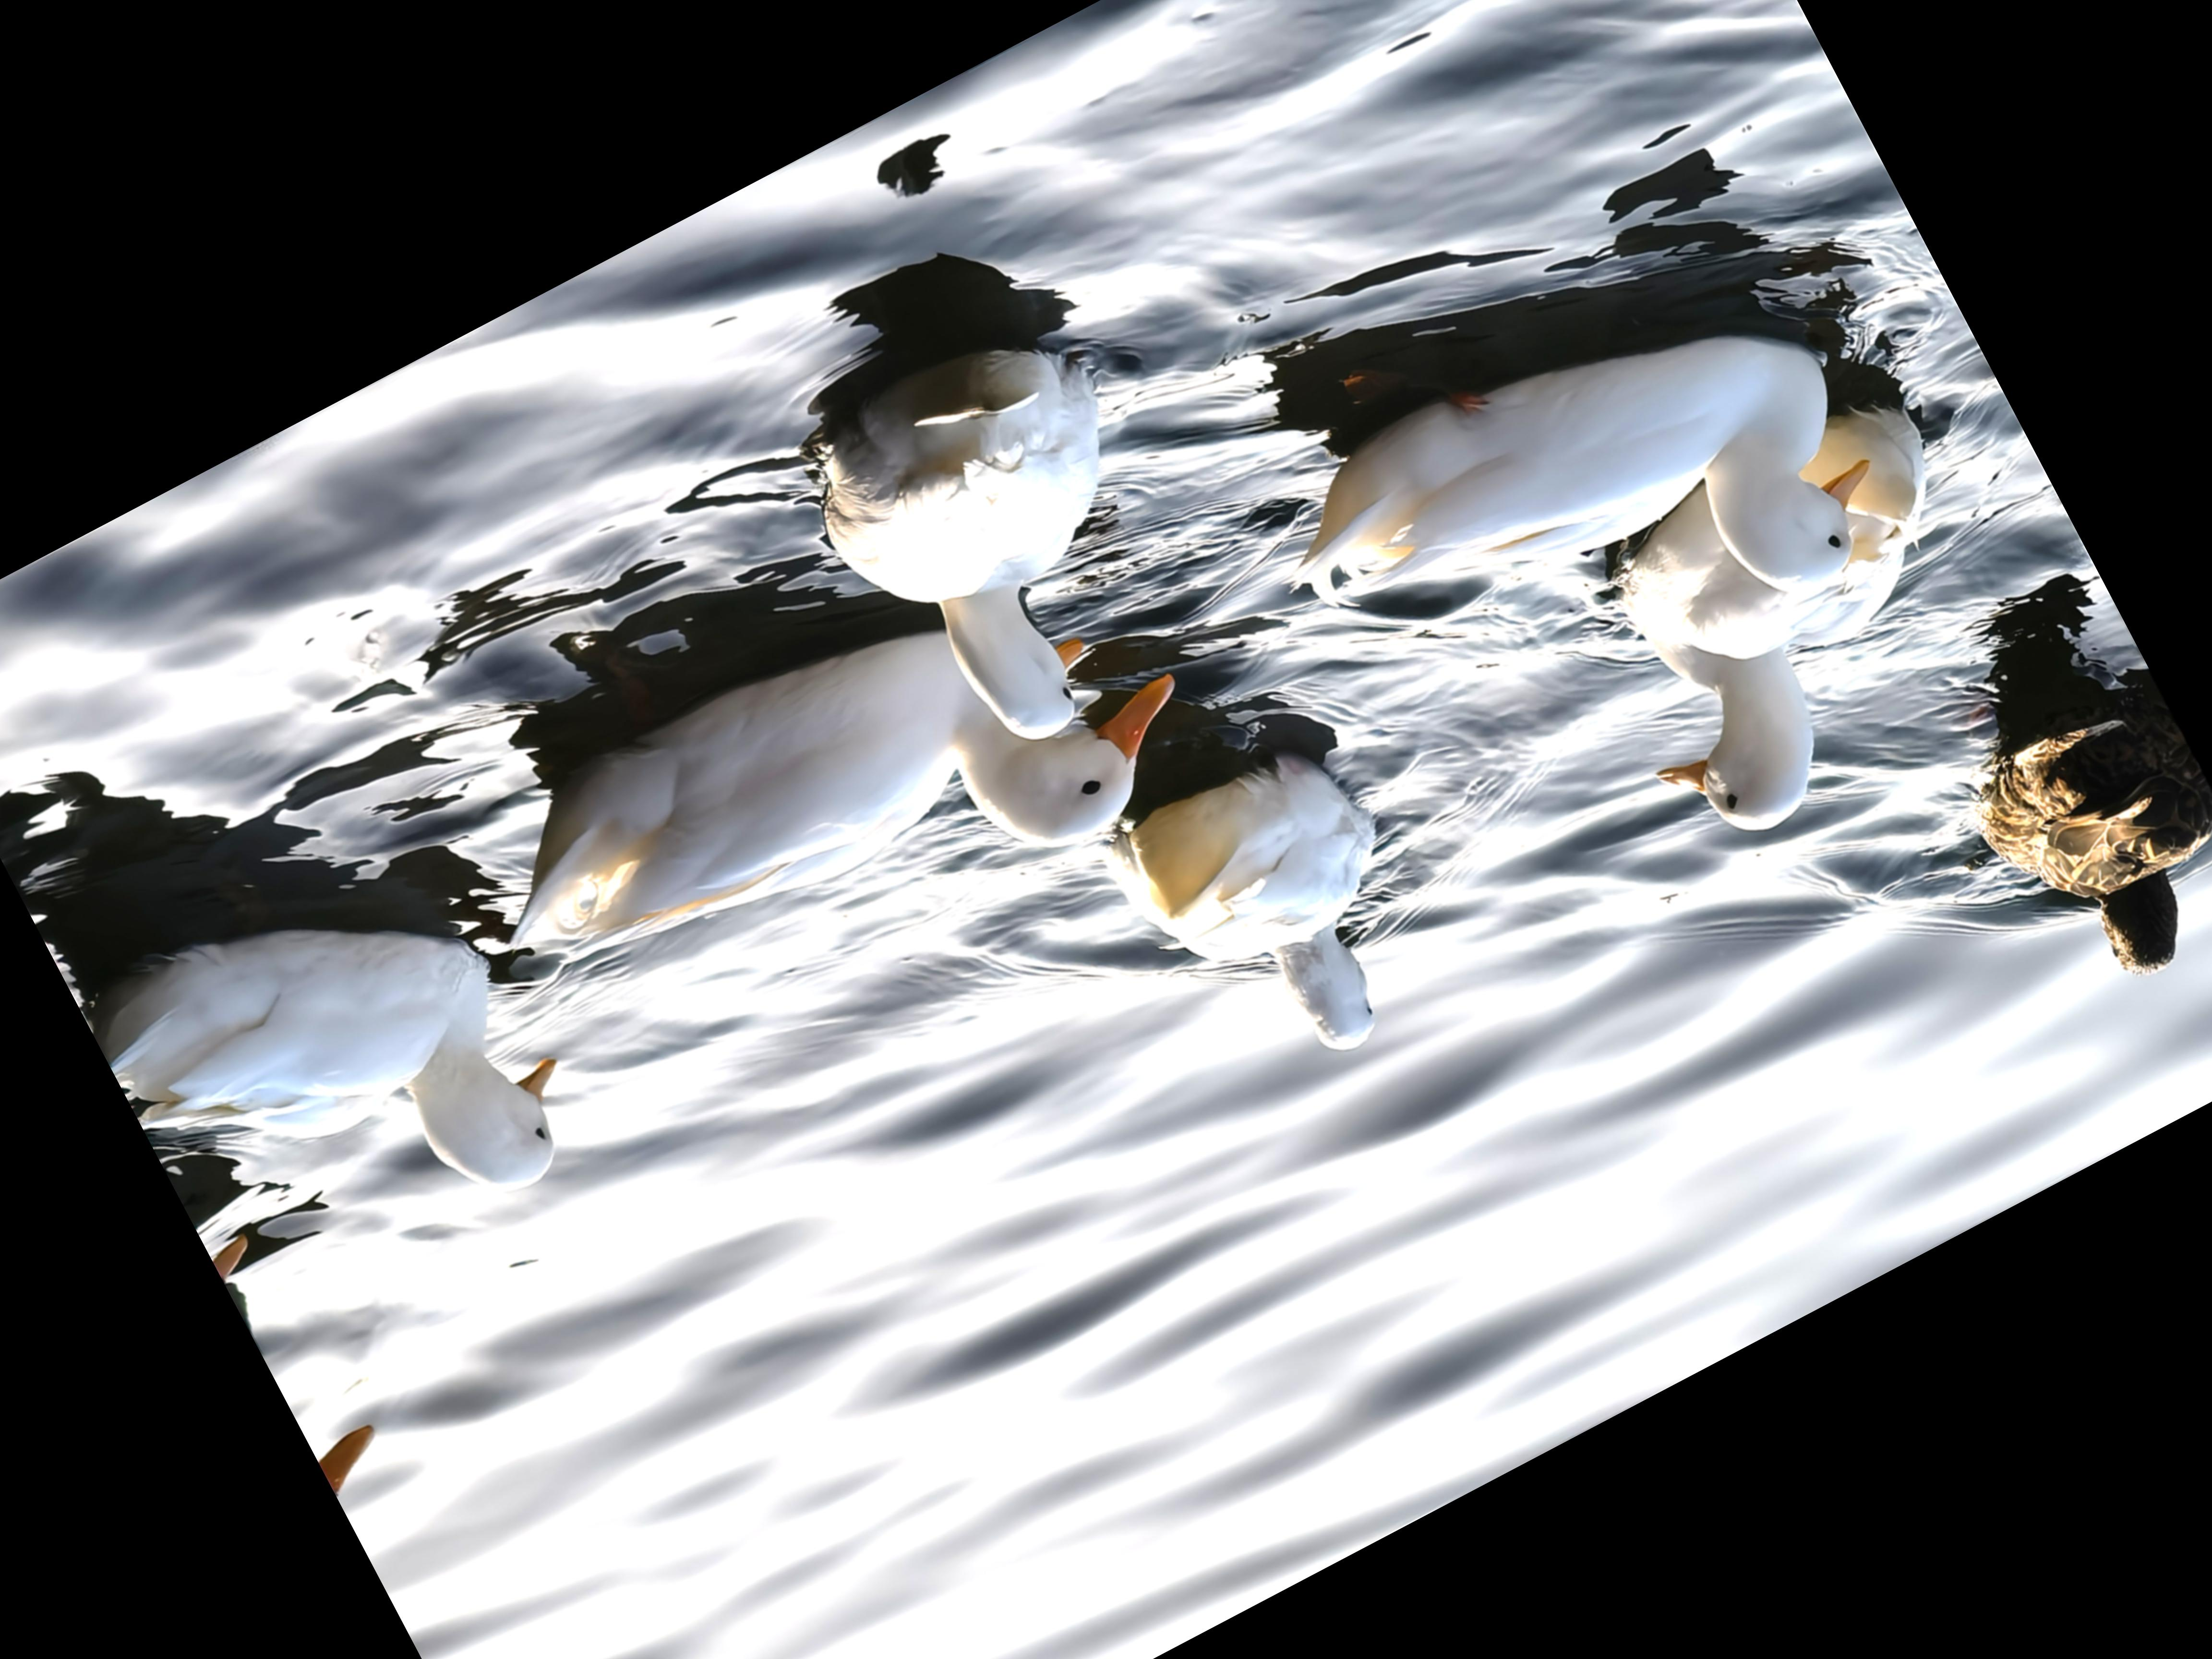duck: (453, 483, 1244, 1103), (1242, 199, 1932, 805), (1505, 375, 2094, 911), (77, 807, 631, 1351), (763, 265, 1259, 796), (1101, 720, 1493, 1127), (1949, 647, 2212, 1028)
